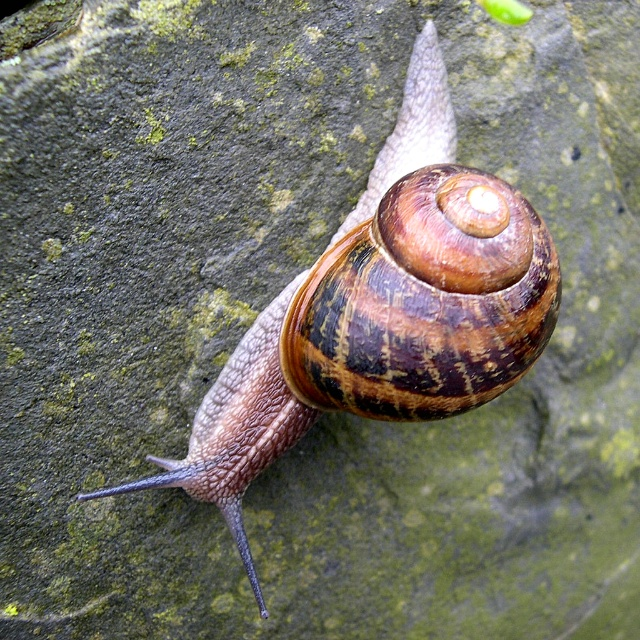Snail: (78, 19, 563, 620)
